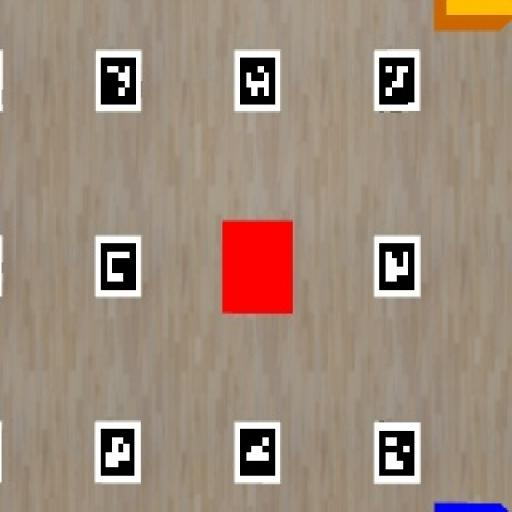car: (434, 502, 508, 511)
fire: (221, 220, 292, 313), (434, 0, 511, 31)
